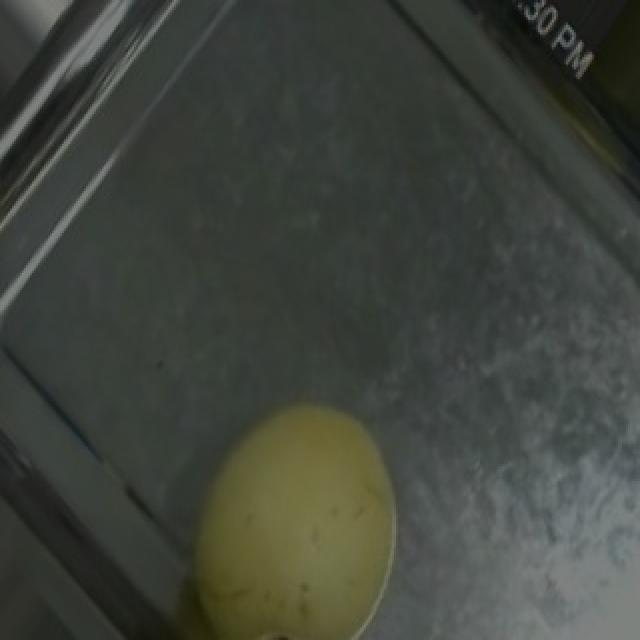Fruit: (150, 367, 428, 640)
